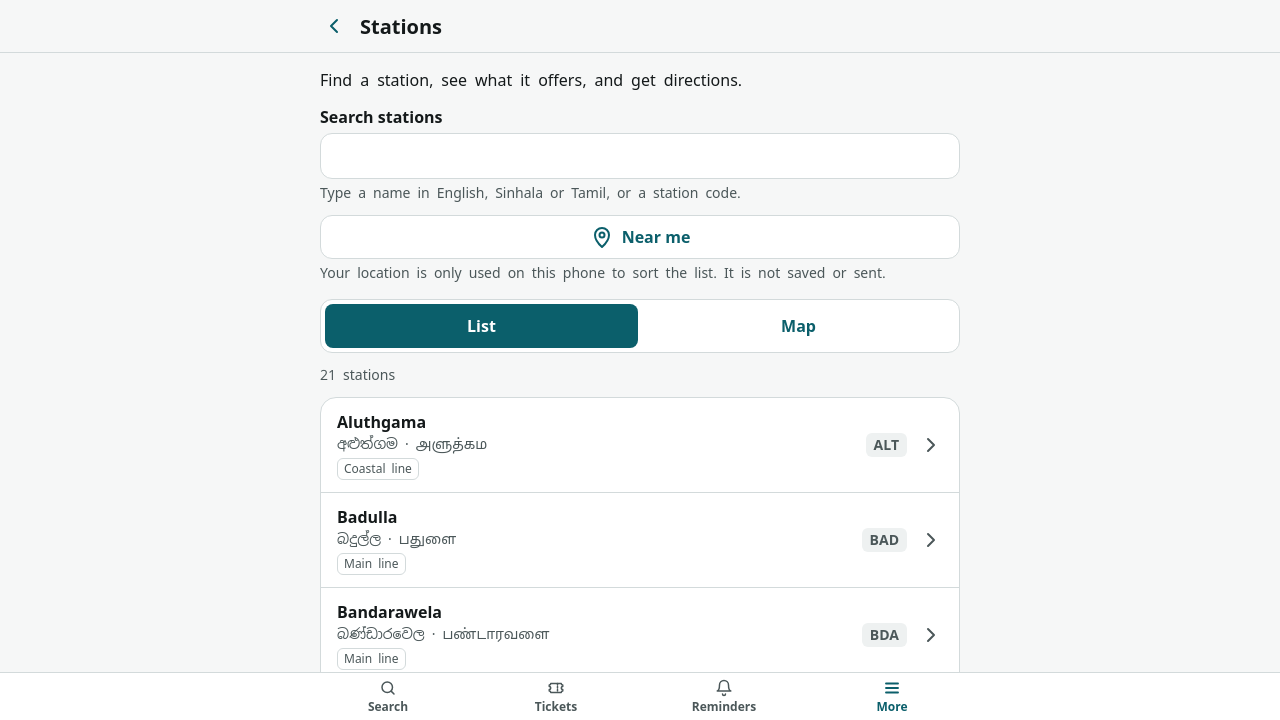
Test: Near me › asks for location only after the tap, sorts by distance, stores nothing
expect the text "Colombo Fort" is shown: met, box [337,696,445,718]
Click the button "Near me" at [640, 237], box [320,215,960,259]
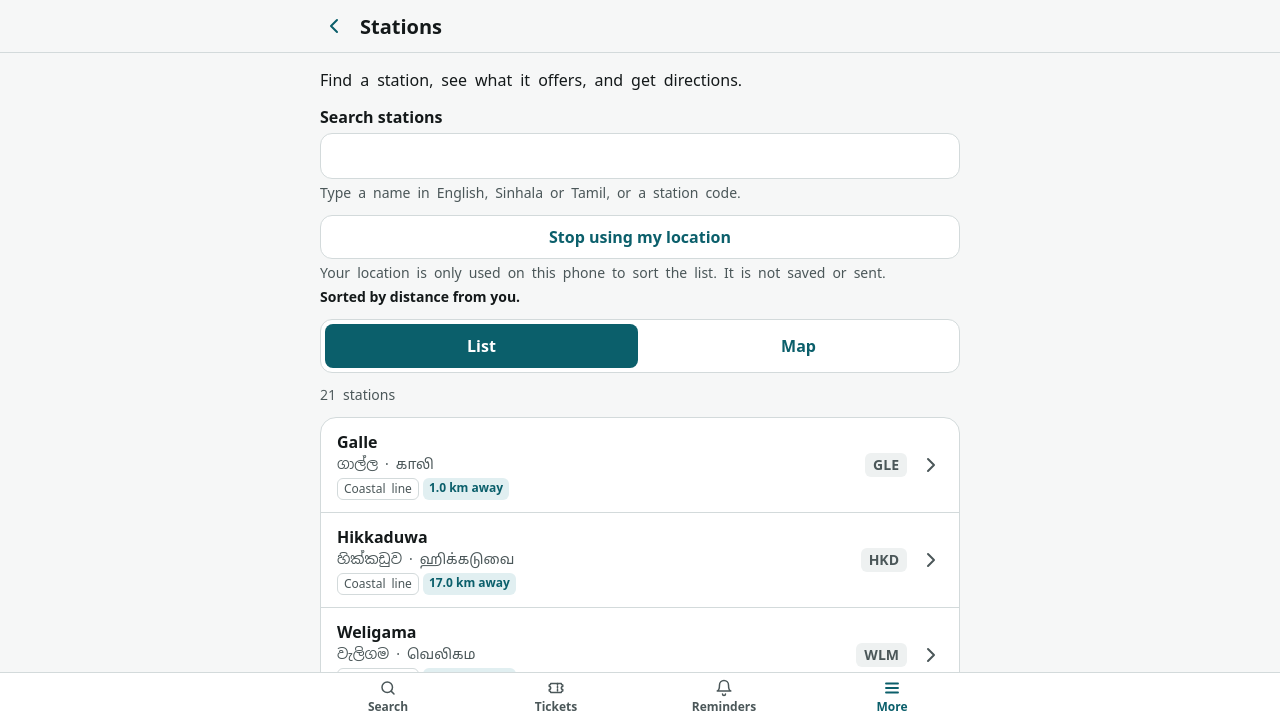
expect the link "Galle ගාල්ල · காலி Coastal line 1.0 km away GLE" is shown: met, box [321,418,959,512]
expect the text "Sorted by distance from you." is shown: met, box [320,287,520,306]
Click the button "Stop using my location" at [640, 237], box [320,215,960,259]
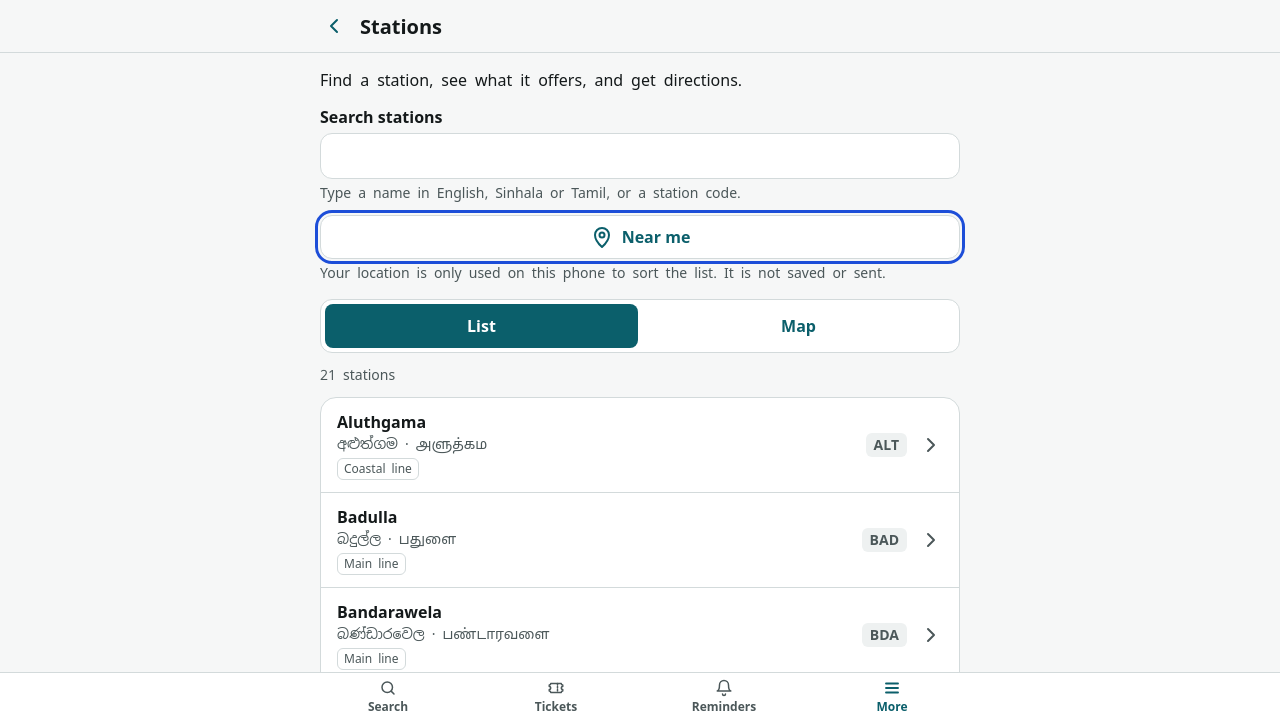
expect the text "km away" is gone: met
